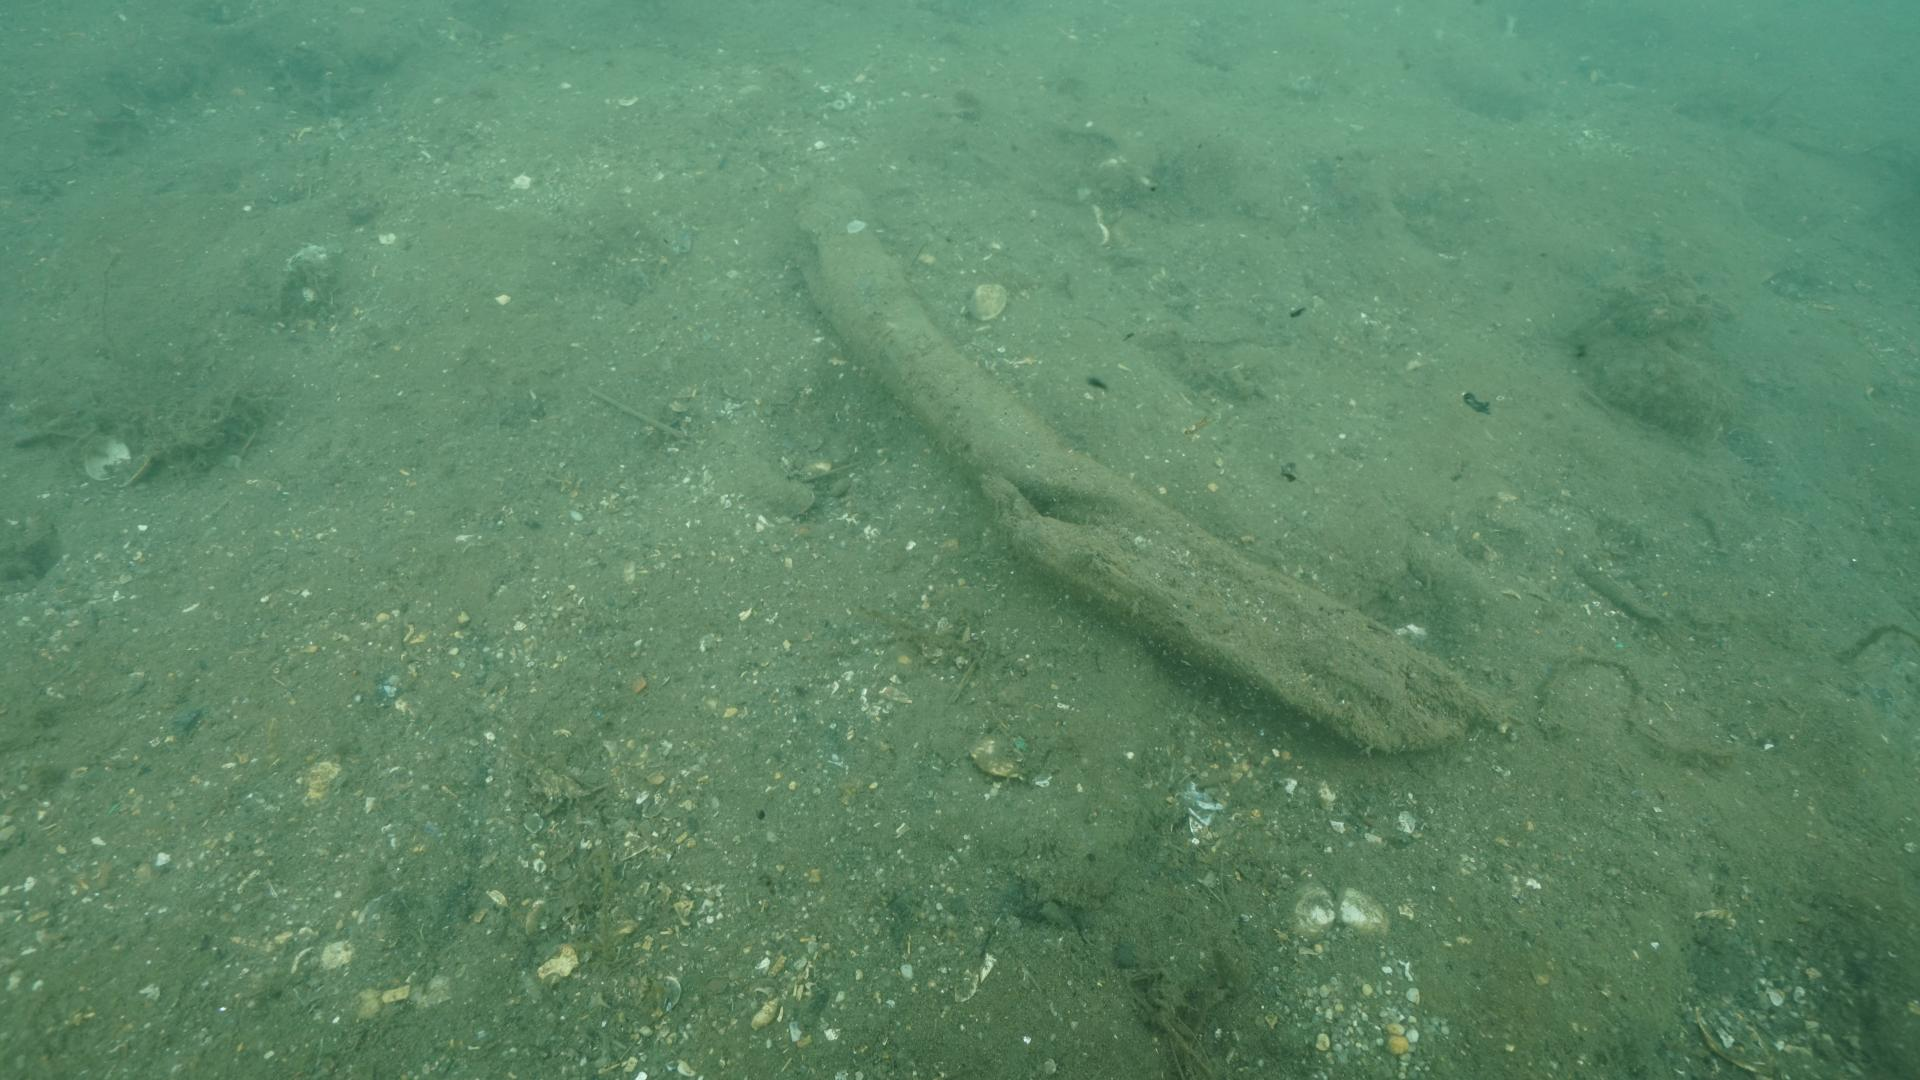wood: (790, 174, 1503, 752)
